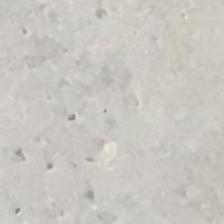Non_Crack: (31, 42, 211, 208)
